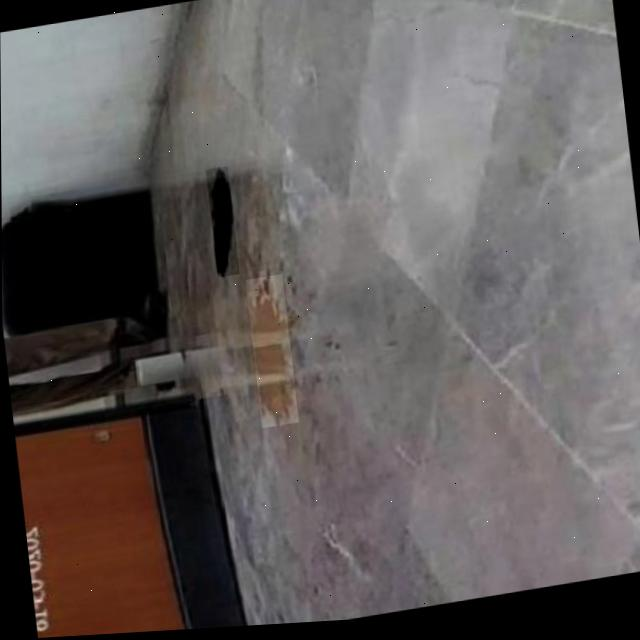spillage: (250, 280, 293, 428), (209, 170, 231, 279)
